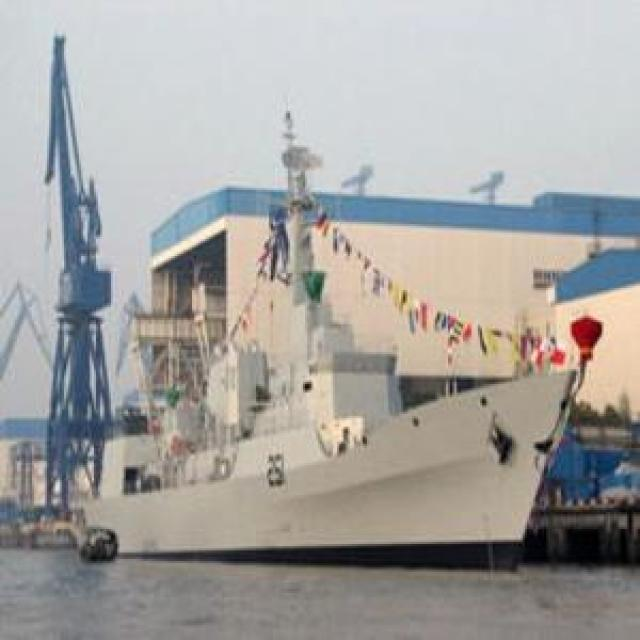navalvessels: (79, 156, 570, 544)
